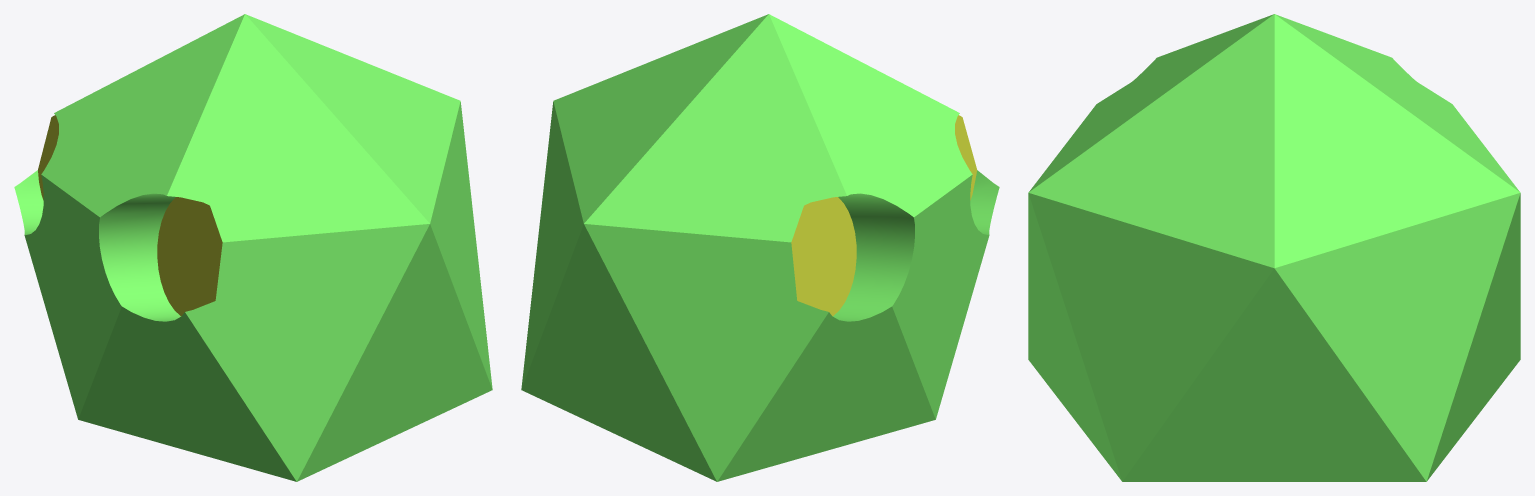
The model's file is Wisp.fbx.
3 views of the same model, side by side, from view 1: azimuth 30°, elevation 25°; view 2: azimuth 150°, elevation 25°; view 3: azimuth 270°, elevation 25° (orthographic). The views are drawn at different scales.
Parts seen in each view (by area): view 1: Icosphere.001; view 2: Icosphere.001; view 3: Icosphere.001.
Part boxes in pixels (<box>): Icosphere.001: <box>14,14,492,481</box>; Icosphere.001: <box>521,14,999,481</box>; Icosphere.001: <box>1028,14,1520,481</box>.
Bounding box in the file's own units: 20.96 × 22.86 × 22.04.
